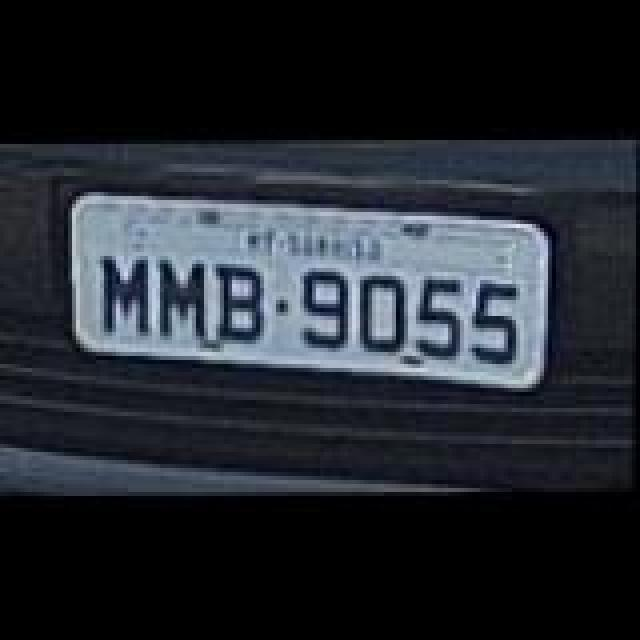5: (464, 282, 528, 370), (412, 280, 476, 364)
9: (298, 268, 358, 352)
B: (208, 266, 272, 346)
D: (354, 278, 414, 358)
M: (96, 258, 160, 342), (154, 260, 214, 344)
